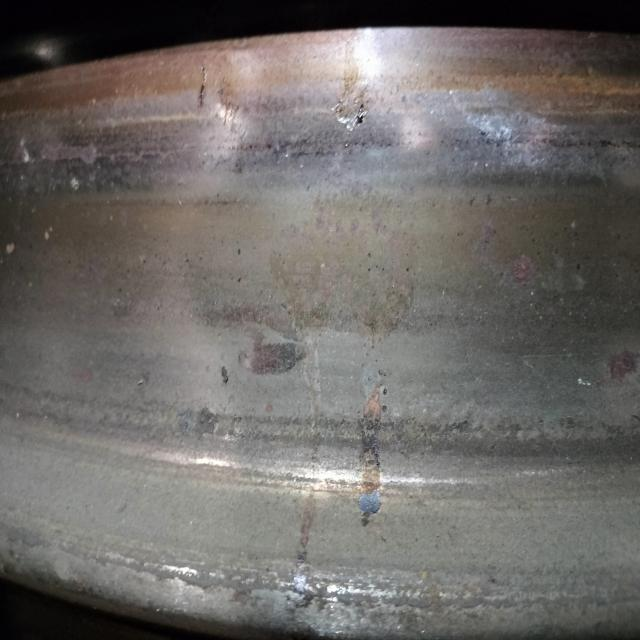Brake_Thermal_Cracks: (199, 61, 209, 112)
Rollerpile: (467, 113, 569, 169)
